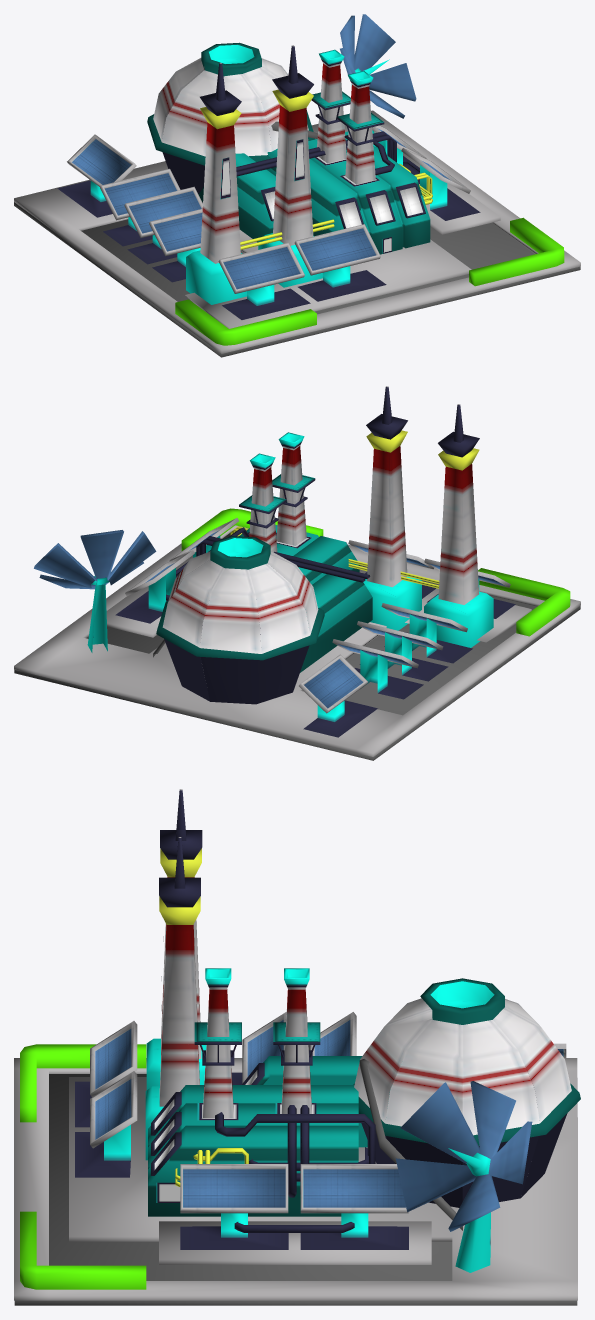
File: energy_LV2.fbx
3 renders of one model, top to bottom at view 1: azimuth 30°, elevation 25°; view 2: azimuth 150°, elevation 25°; view 3: azimuth 270°, elevation 25°, orthographic. The views are drawn at different scales.
Visible parts, largest first — view 1: energy level 2; view 2: energy level 2; view 3: energy level 2.
Boxes of the visible parts, x1,y1,x2,y2 form: energy level 2: (14,14,580,357); energy level 2: (14,386,580,760); energy level 2: (14,789,580,1305).
Bounding box in the file's own units: 162 × 99.89 × 161.
